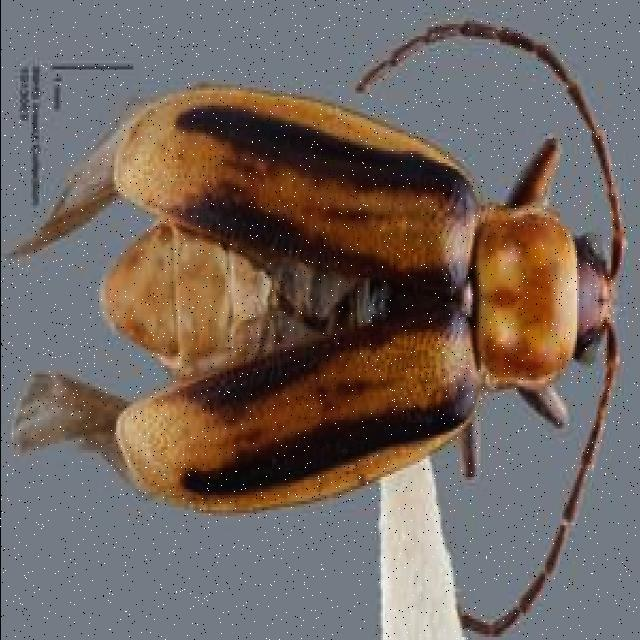trips: (6, 22, 622, 638)
